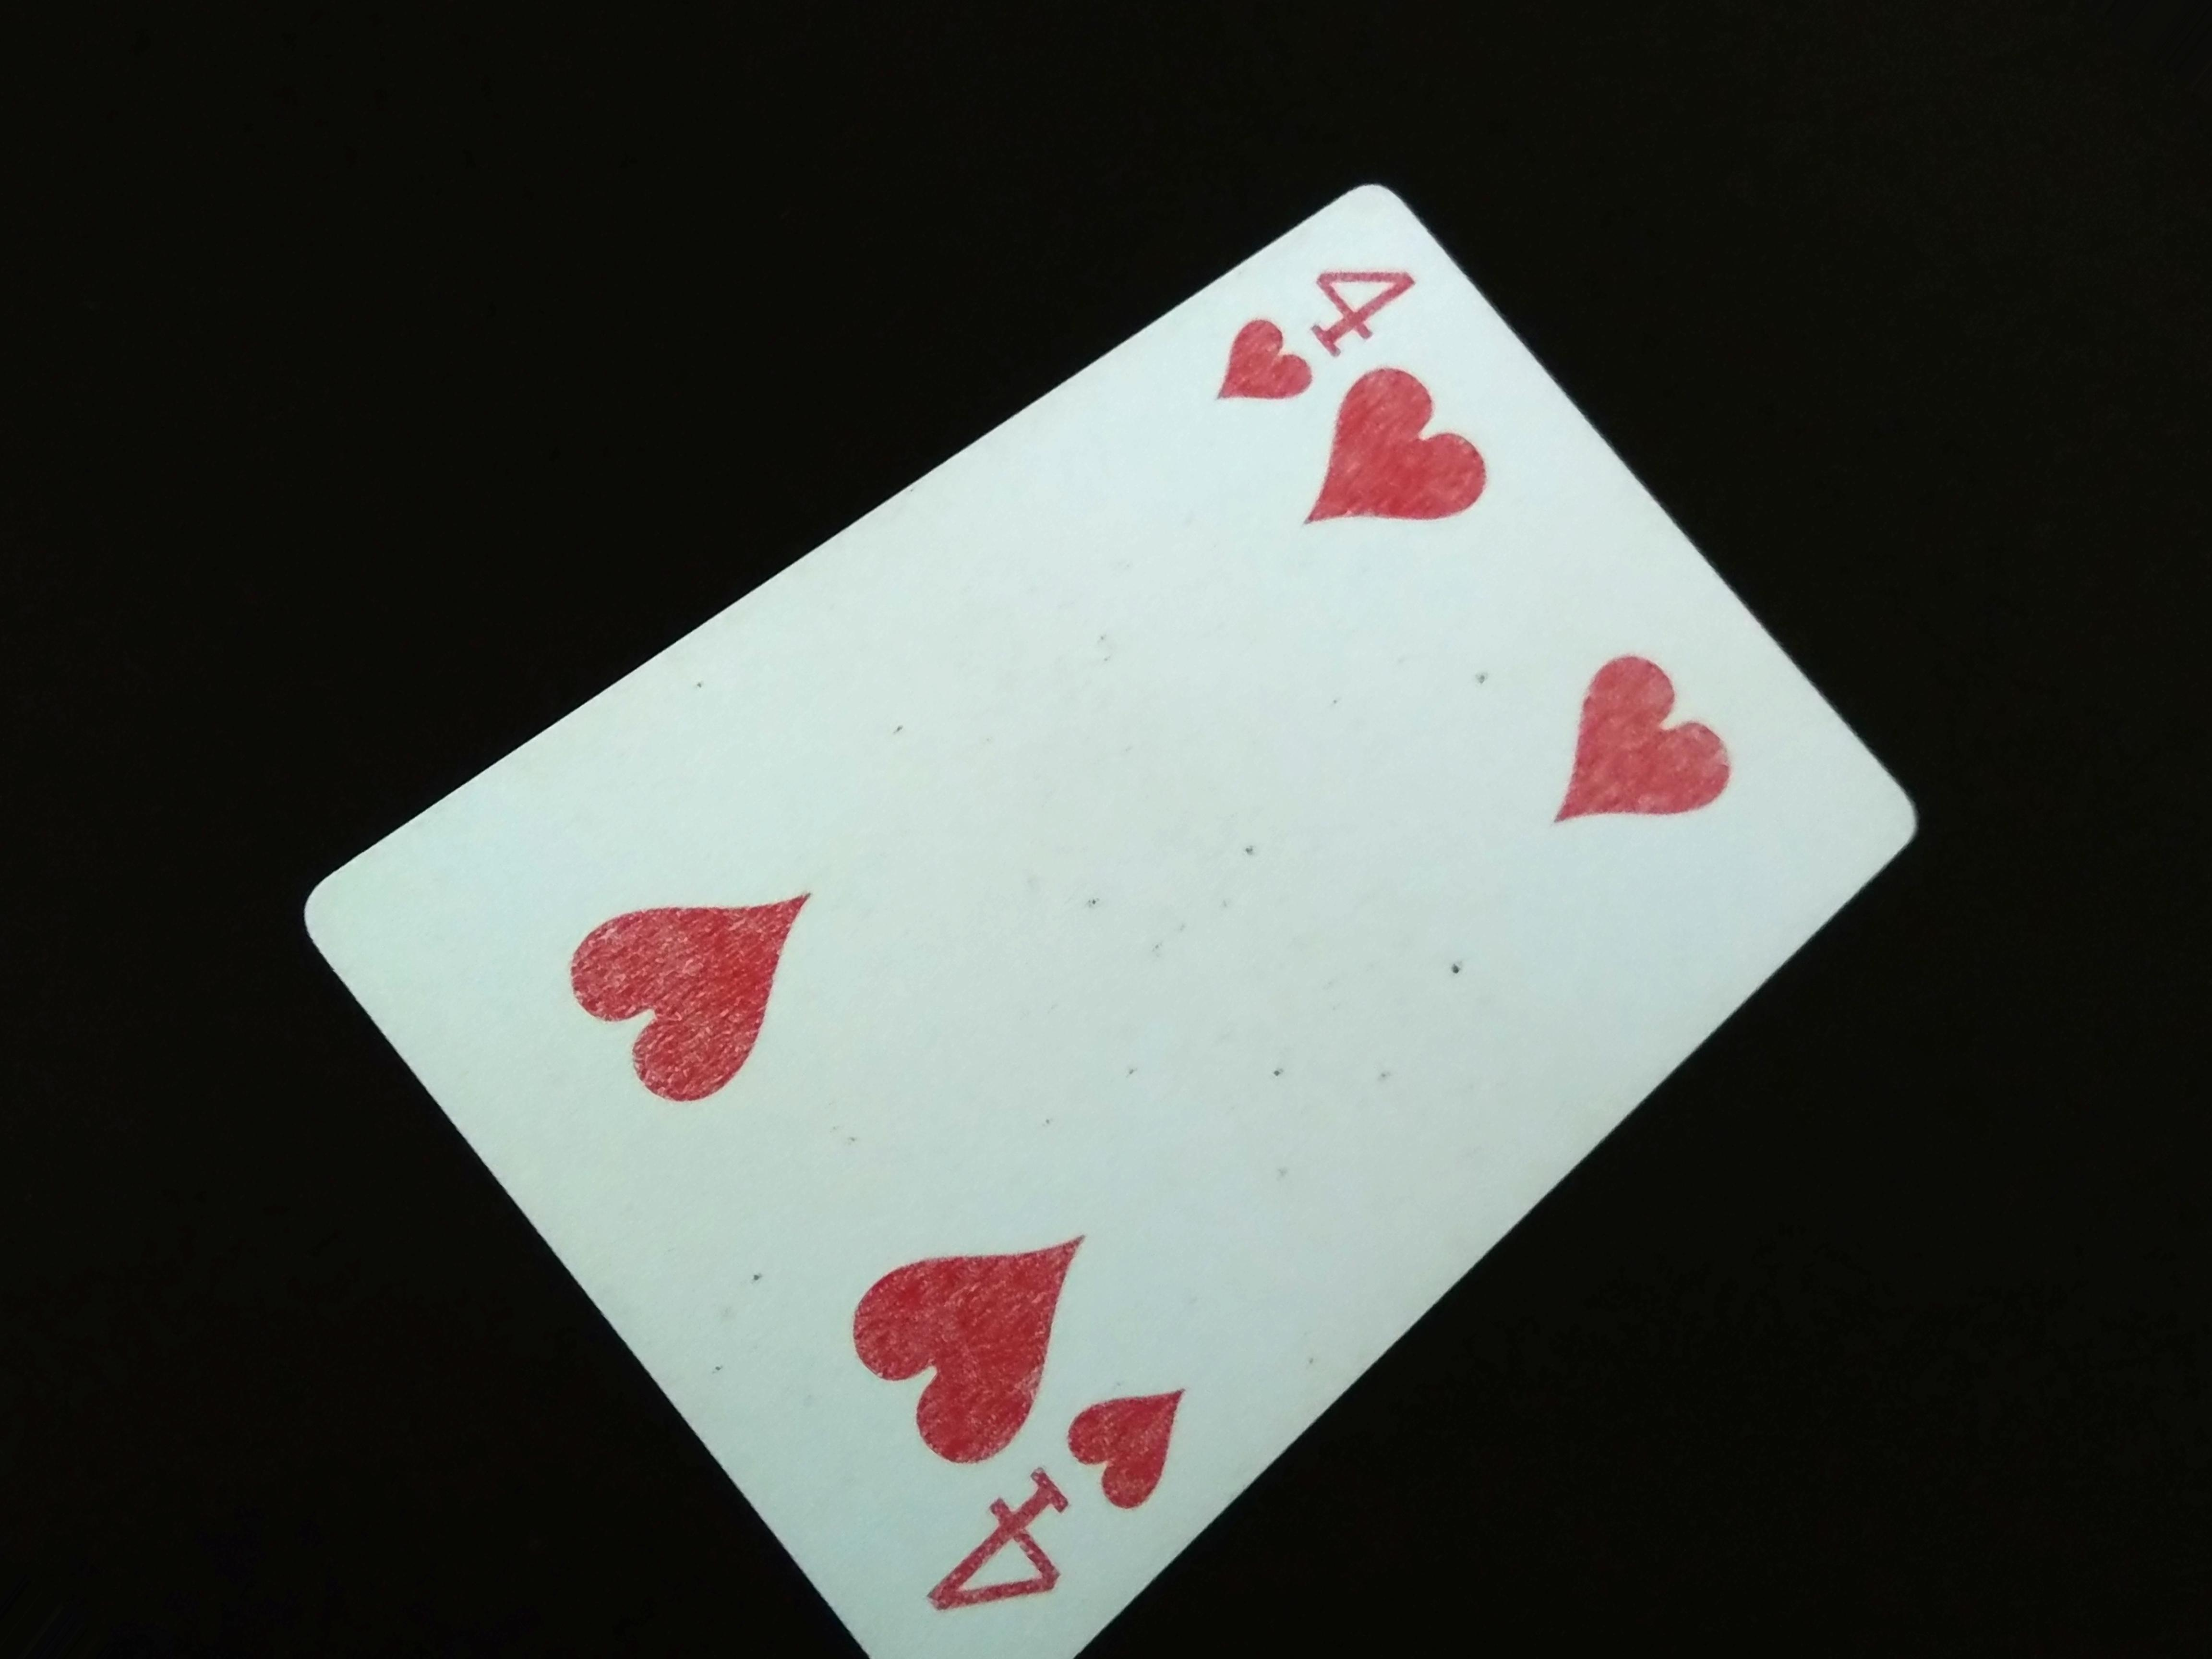4H: (1207, 247, 1418, 444)
